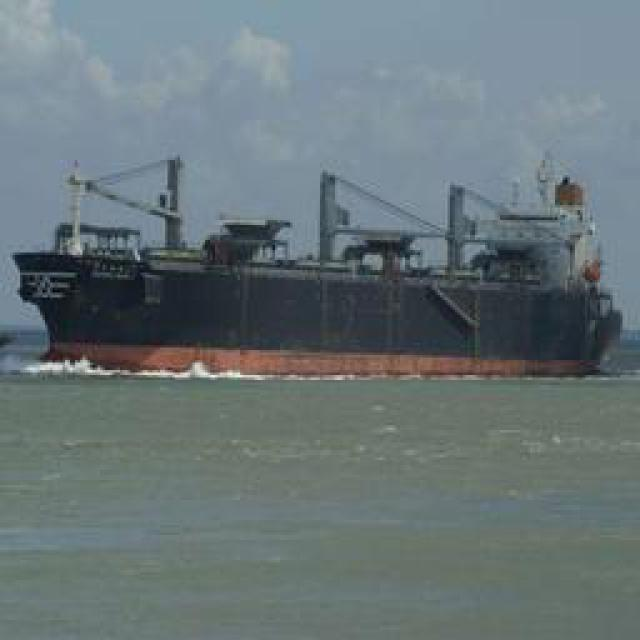Ship: (11, 156, 626, 364)
